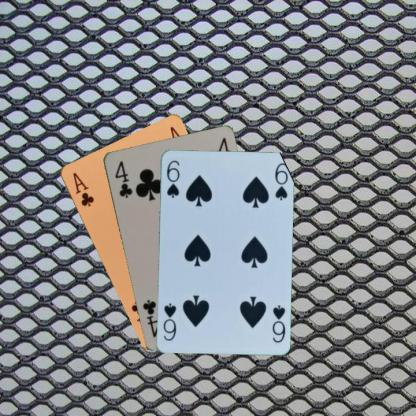4c: (112, 158, 134, 199)
6s: (269, 302, 287, 344), (164, 157, 181, 199)
Ac: (70, 169, 95, 208)
